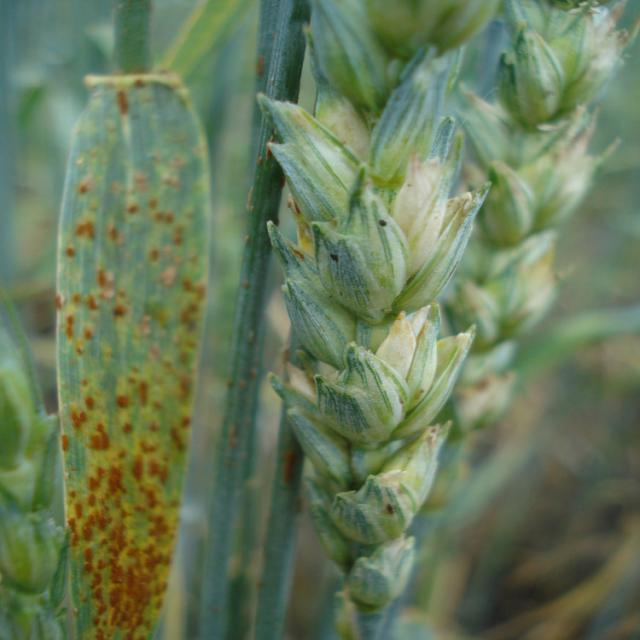wheat-stemrust: (51, 70, 211, 640)
